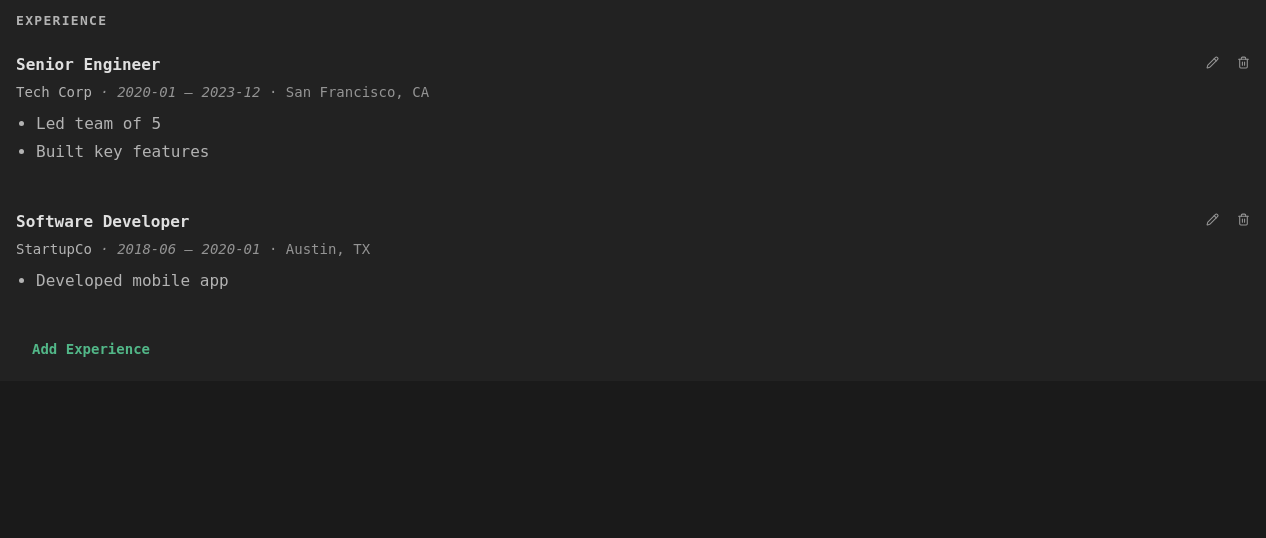
Scenario: ExperienceSection (edit/add/delete) › add mode › cancels add mode when cancel clicked
Click the button "Add Experience". click: (91, 349)
box: [16,333,166,365]
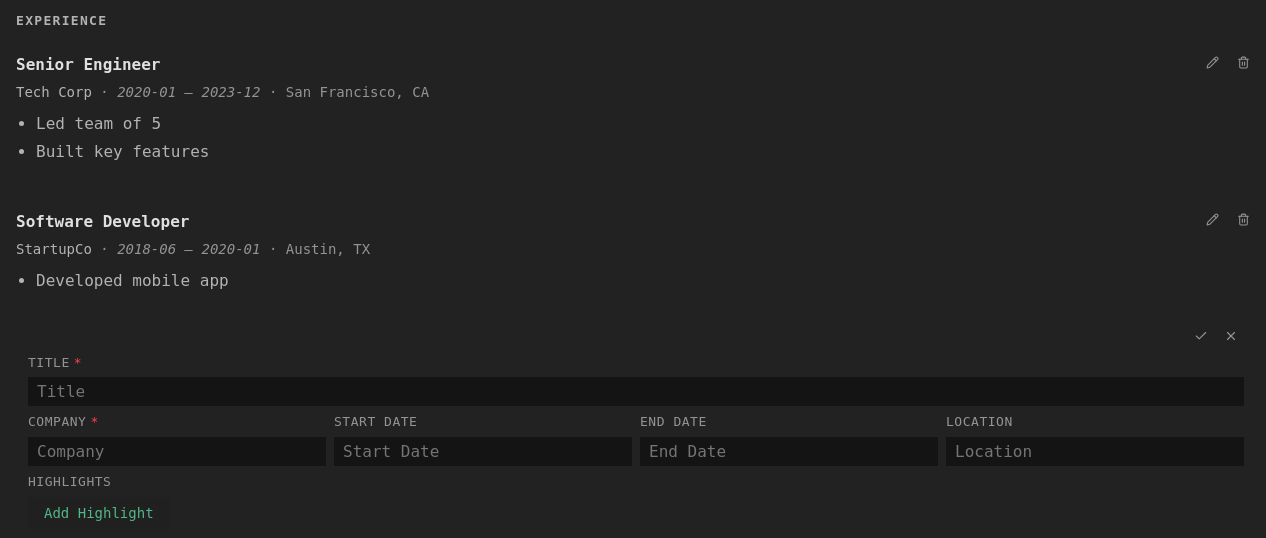
Check: the field labelled "Title*" is shown, box [28,377,1244,406]
Click the button named "cancel". click: (1231, 336)
box: [1218,325,1244,347]
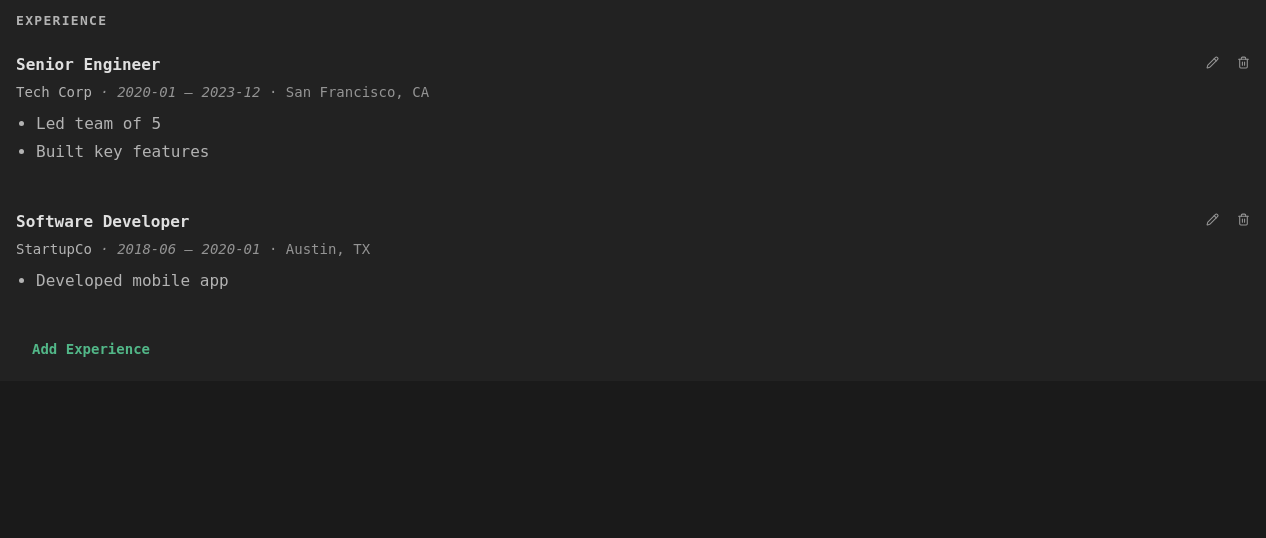
Check: the label labelled "Title" is gone
Check: the button "Add Experience" is shown, box [16,333,166,365]
